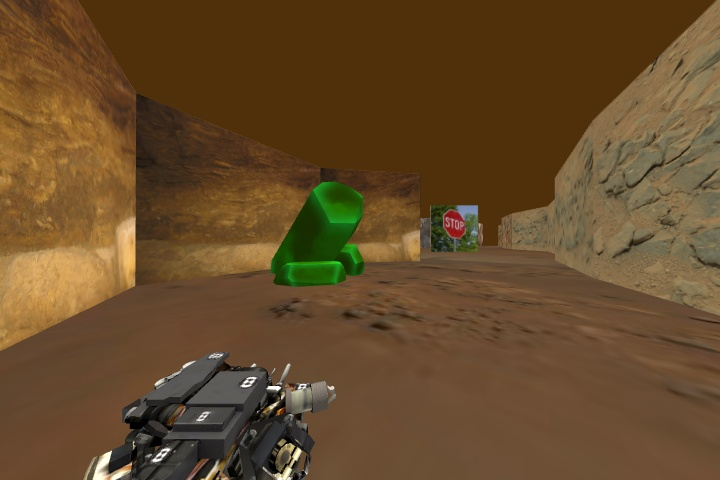green rock: (263, 177, 372, 290)
